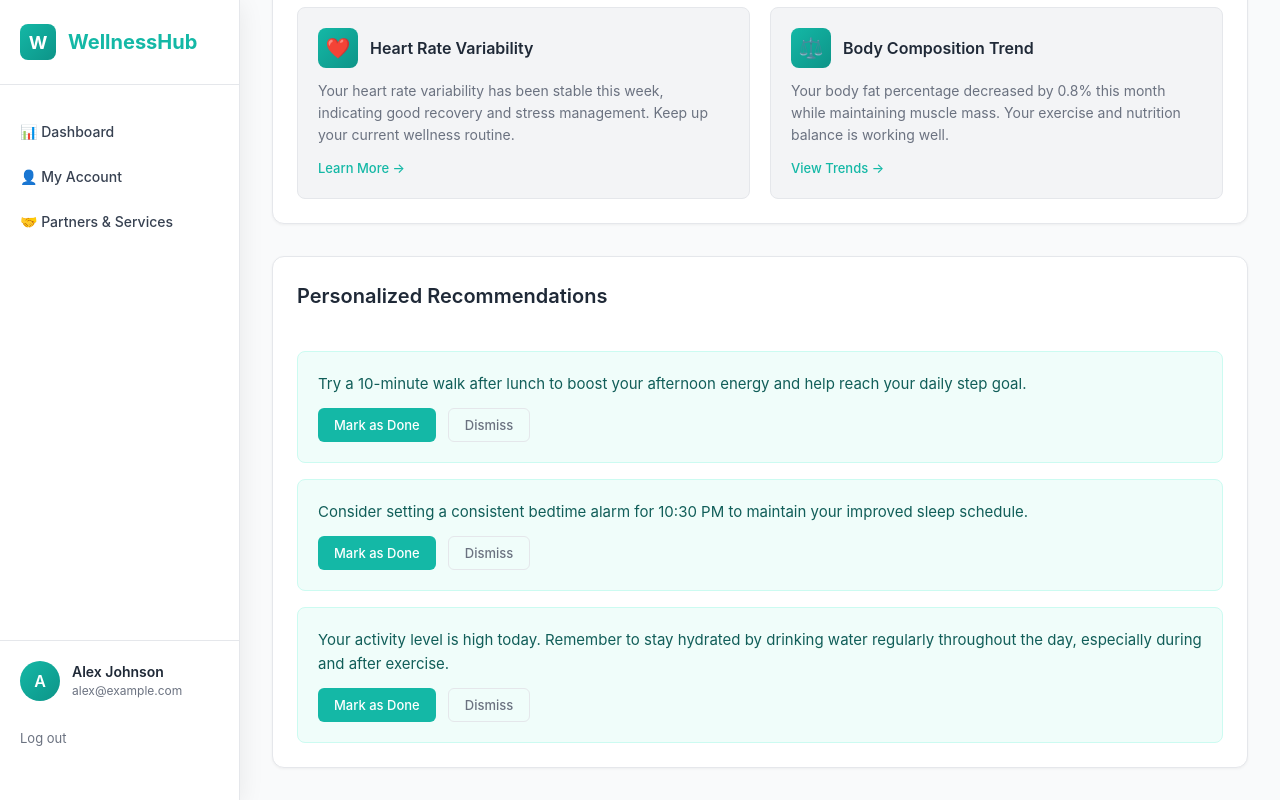
it: Mark as Done button removes the card and adds next_nudge when returned
(page scrolled)
Expected: the heading "Personalized Recommendations" is shown, top-left (297, 284), bottom-right (607, 308)
Click the 1st button "Mark as Done" at (377, 425), box top-left (318, 408), bottom-right (436, 442)
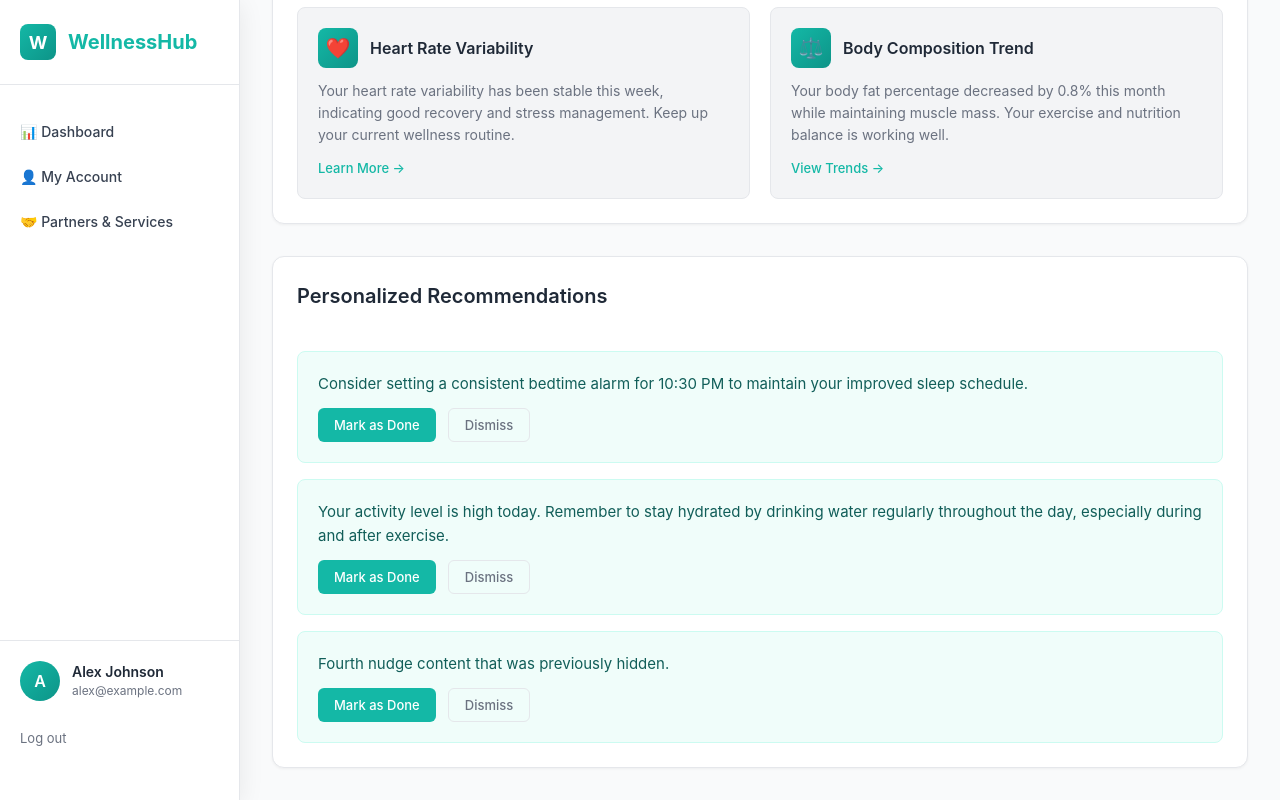
Expected: the number of buttons "Mark as Done" is 3, top-left (318, 408), bottom-right (436, 442); top-left (318, 560), bottom-right (436, 594); top-left (318, 688), bottom-right (436, 722)
Expected: the text "Fourth nudge content that was previously hidden." is shown, top-left (318, 654), bottom-right (669, 673)
